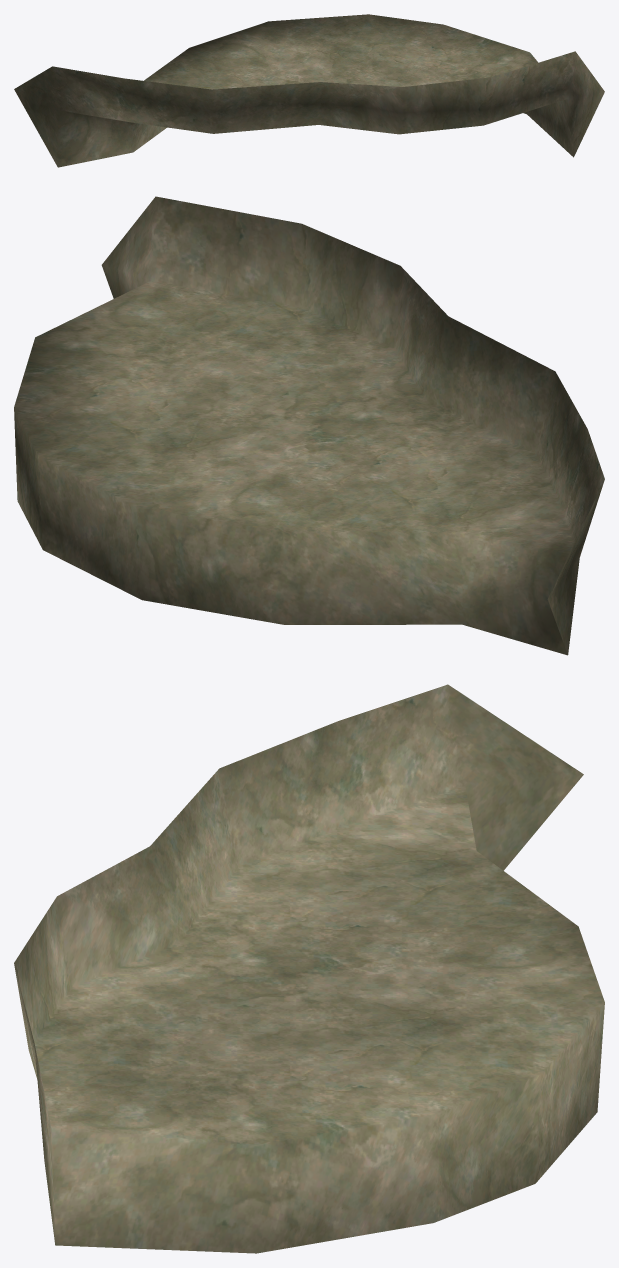
Rendered from OVERHILL_A_01_OBJECT209.fbx.
The picture shows the model from 3 angles, top to bottom: view 1: azimuth 30°, elevation 25°; view 2: azimuth 150°, elevation 25°; view 3: azimuth 270°, elevation 25°; orthographic projection. The views are drawn at different scales.
Visible parts, largest first — view 1: OVERHILL_A_01_OBJECT209; view 2: OVERHILL_A_01_OBJECT209; view 3: OVERHILL_A_01_OBJECT209.
Part boxes in pixels (left/top/right/bottom): OVERHILL_A_01_OBJECT209: left=14, top=14, right=604, bottom=167; OVERHILL_A_01_OBJECT209: left=14, top=196, right=604, bottom=655; OVERHILL_A_01_OBJECT209: left=14, top=684, right=604, bottom=1253.
Bounding box in the file's own units: 48516 × 11751 × 31407.
Materials: 1 (1 with a texture image).
